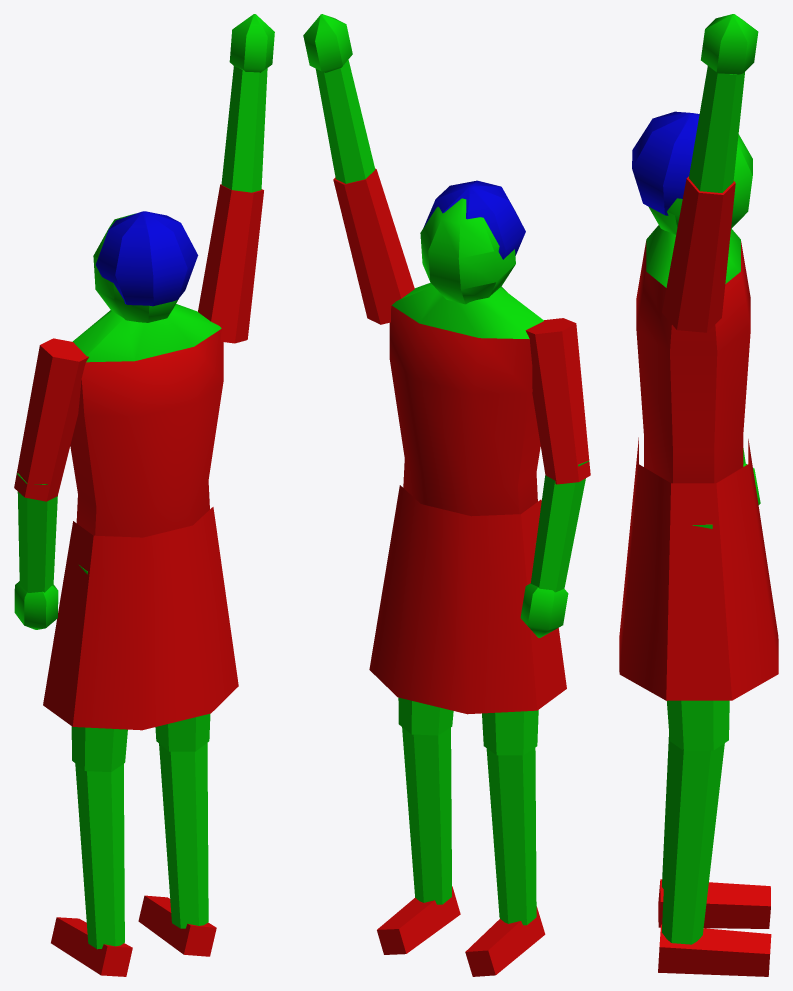
The model's file is stand_cheer_one_arm_lod0.glb.
3 renders of one model, left to right at view 1: azimuth 30°, elevation 25°; view 2: azimuth 150°, elevation 25°; view 3: azimuth 270°, elevation 25°, orthographic. The views are drawn at different scales.
Parts seen in each view (by area): view 1: OUT_0; view 2: OUT_0; view 3: OUT_0.
Boxes of the visible parts, x1,y1,x2,y2 form: OUT_0: (14, 14, 274, 976); OUT_0: (303, 14, 590, 976); OUT_0: (619, 14, 778, 976).
Size of the model in its own units: 0.6277 by 2.06 by 0.296.
